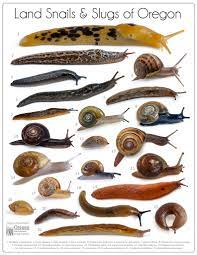slug: (16, 73, 121, 108), (18, 24, 183, 46), (79, 193, 145, 219), (10, 50, 130, 64), (92, 180, 187, 197), (11, 68, 87, 86), (107, 86, 183, 104), (40, 225, 153, 236), (13, 106, 77, 121), (155, 203, 189, 229), (82, 133, 111, 147), (5, 200, 34, 214), (39, 209, 77, 219)
snail: (115, 127, 176, 166), (13, 151, 74, 186), (76, 105, 134, 130), (133, 155, 183, 177), (11, 127, 72, 144), (138, 104, 184, 125), (77, 161, 112, 180), (40, 178, 71, 197)
